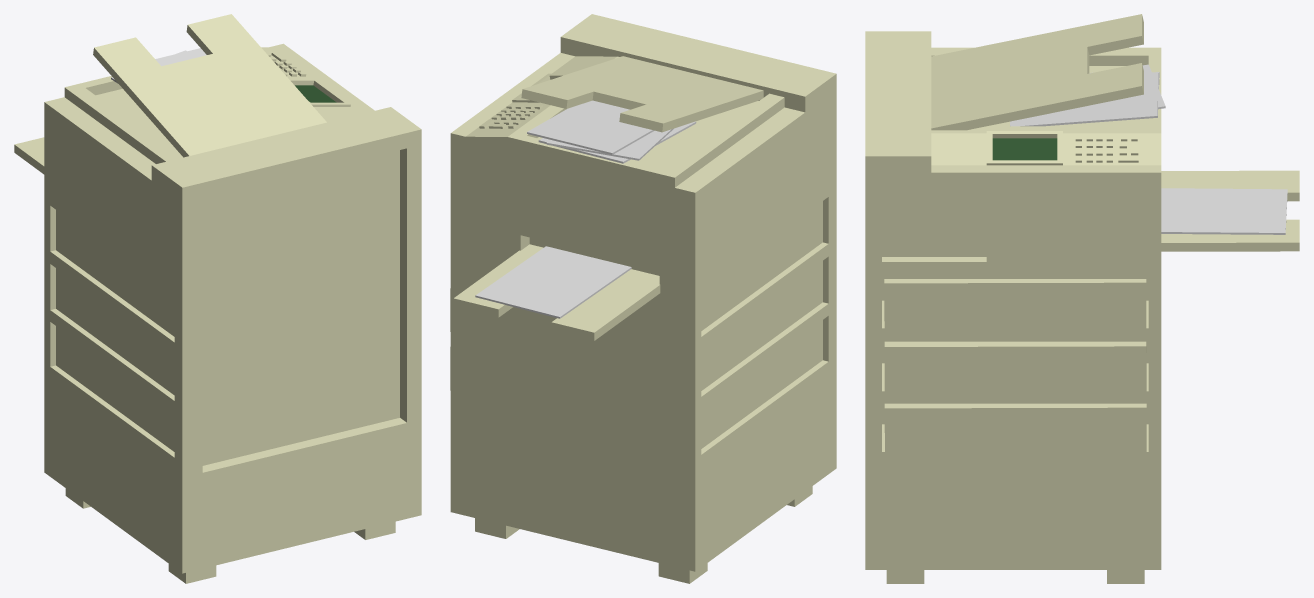
Rendered from printer.fbx.
3 renders of one model, left to right at view 1: azimuth 30°, elevation 25°; view 2: azimuth 150°, elevation 25°; view 3: azimuth 270°, elevation 25°, orthographic. The views are drawn at different scales.
Visible parts, largest first — view 1: ref38; view 2: ref38; view 3: ref38.
Boxes of the visible parts, bbox=[...] form: ref38: bbox=[14, 14, 421, 583]; ref38: bbox=[450, 14, 836, 583]; ref38: bbox=[865, 14, 1299, 583].
Size of the model in its own units: 86.55 by 149 by 123.
